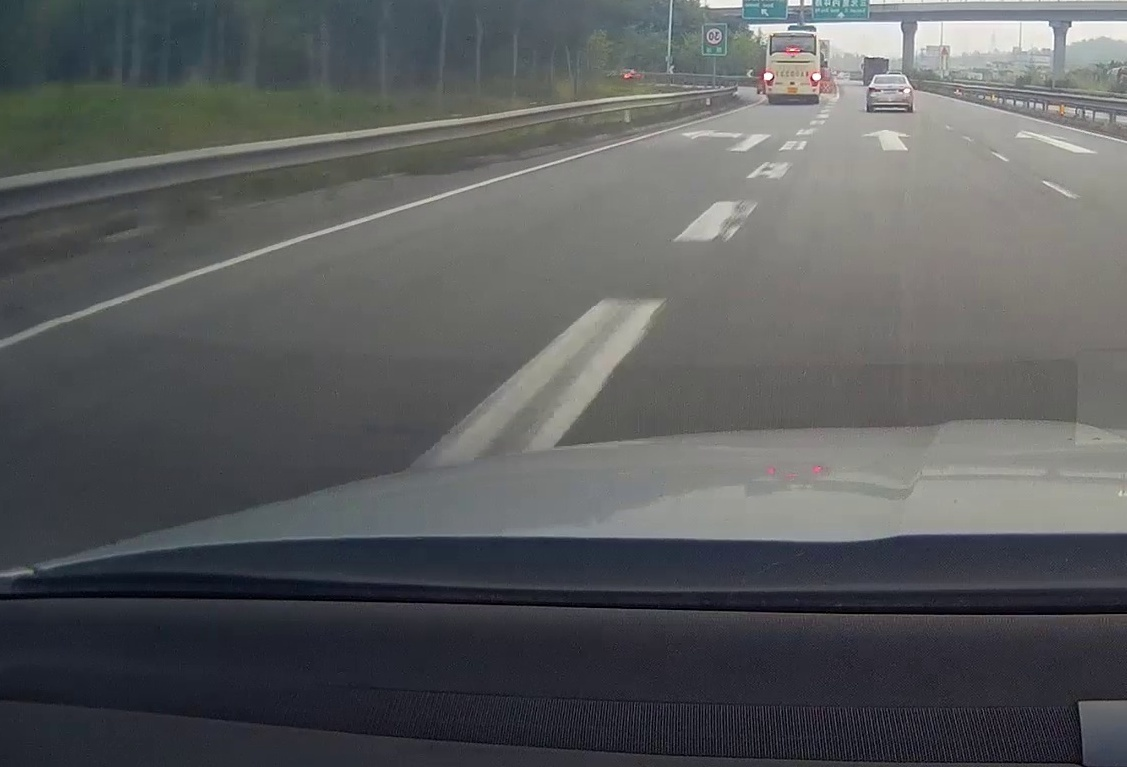L_light: (766, 71, 774, 86), (869, 87, 881, 92)
R_light: (811, 71, 818, 86), (898, 88, 910, 92)
T_light: (786, 48, 800, 52), (887, 77, 894, 80)
day-brake: (765, 31, 821, 104)
day-right: (868, 74, 914, 112)
